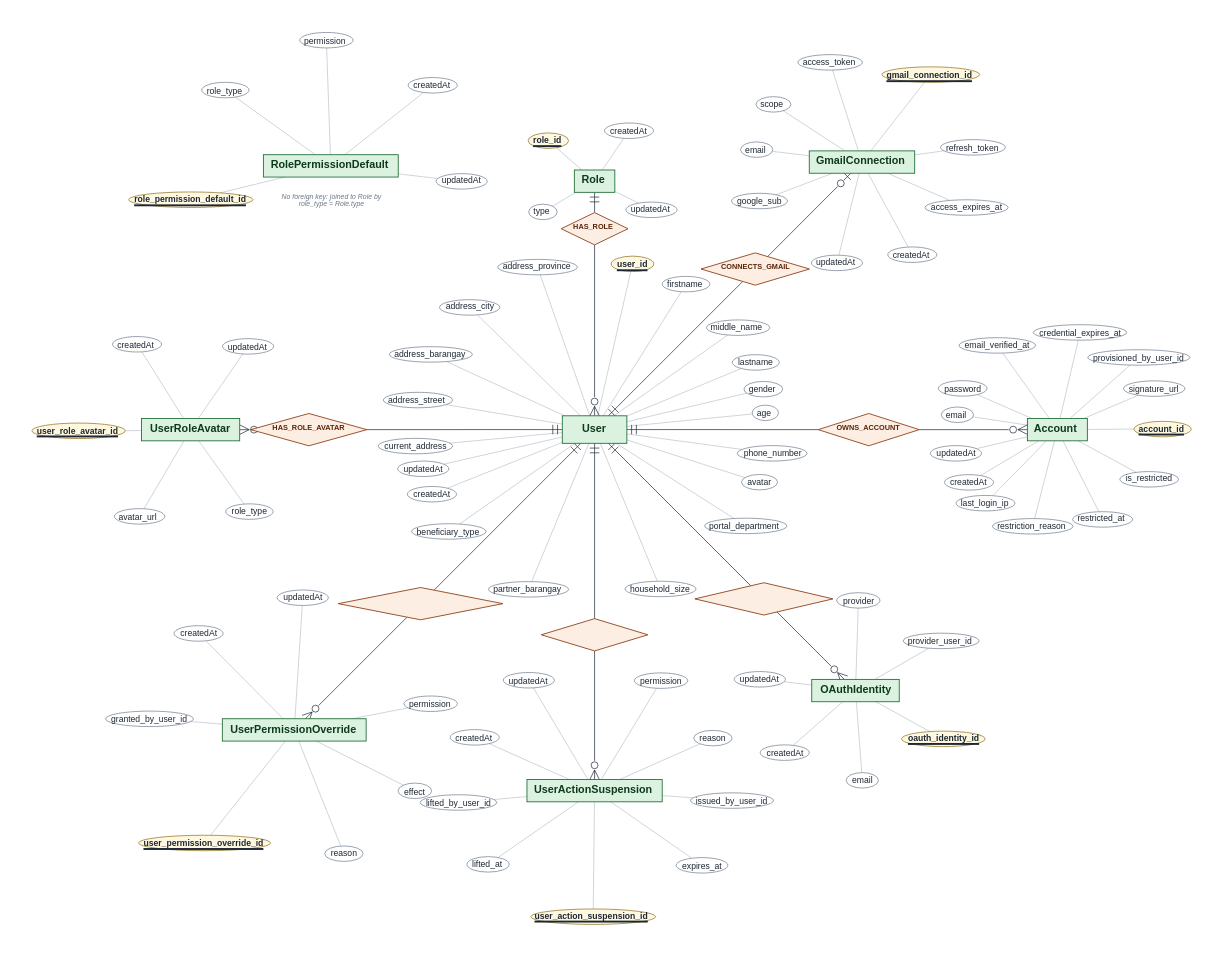
Image size: 1226x959. Some labels were removed from this diagram. The box of each missing label's shape, as (x1, y1, x2, y2) in pixels:
HAS_PERMISSION_OVERRIDE: (337, 586, 503, 619)
HAS_SUSPENSION: (540, 617, 647, 650)
LINKS_OAUTH_IDENTITY: (694, 581, 833, 614)
